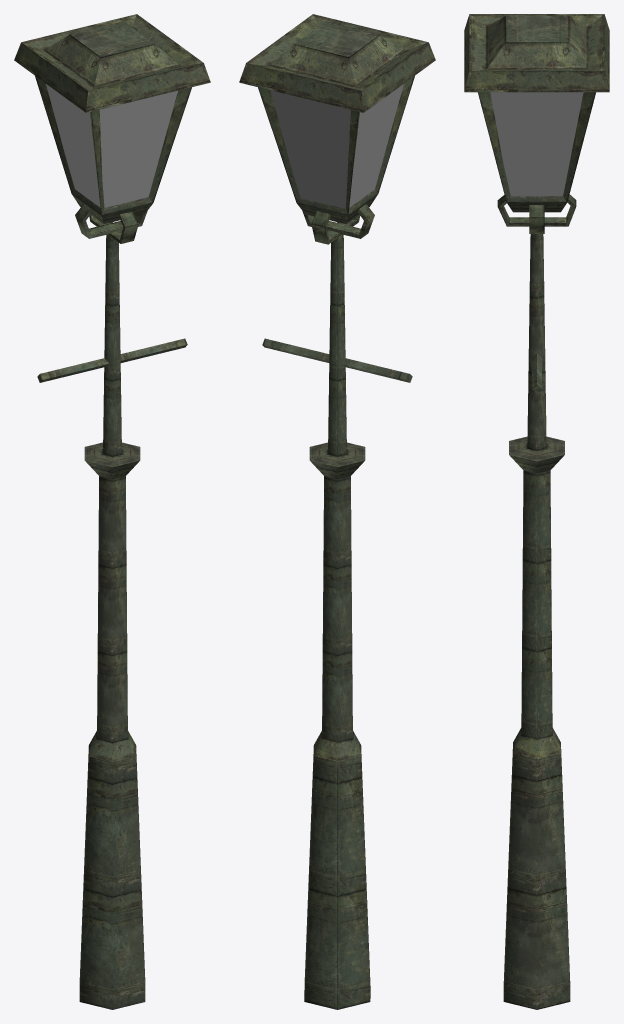
Rendered from Model_Streetlight_02_Large.fbx.
The picture shows the model from 3 angles, left to right: view 1: azimuth 30°, elevation 25°; view 2: azimuth 150°, elevation 25°; view 3: azimuth 270°, elevation 25°; orthographic projection.
Parts seen in each view (by area): view 1: StreetLight_02_Large; view 2: StreetLight_02_Large; view 3: StreetLight_02_Large.
Boxes of the visible parts, bbox=[...] form: StreetLight_02_Large: bbox=[14, 14, 210, 1009]; StreetLight_02_Large: bbox=[239, 14, 435, 1009]; StreetLight_02_Large: bbox=[464, 14, 609, 1009].
Size of the model in its own units: 44.67 by 280 by 38.34.
